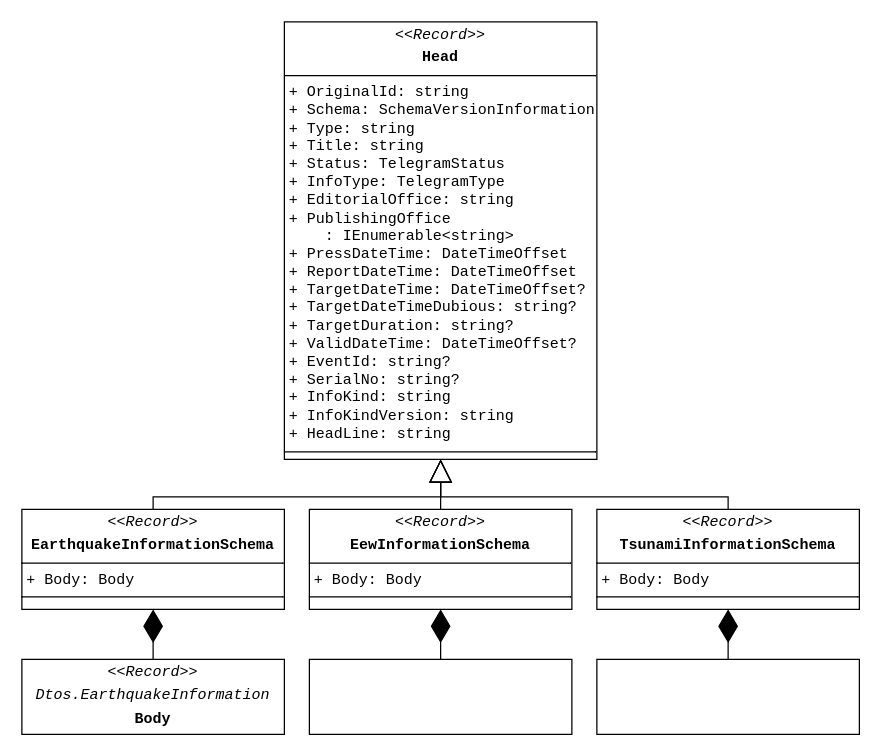
The diagram is 881 pixels wide and 756 high, and some of its shapes have lost their labels. The centre of each missing label's shape, as x and y in pixels:
<<Record>> Dtos.EewInformation Body: the point at 440,696
<<Record>> Dtos.TsunamiInformation Body: the point at 727,696
